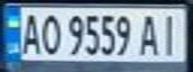5: (81, 11, 100, 56), (100, 11, 118, 56)
9: (63, 10, 84, 56), (115, 11, 136, 56)
A: (15, 10, 42, 56), (136, 11, 163, 56)
I: (154, 10, 184, 56)
O: (36, 10, 63, 56)
